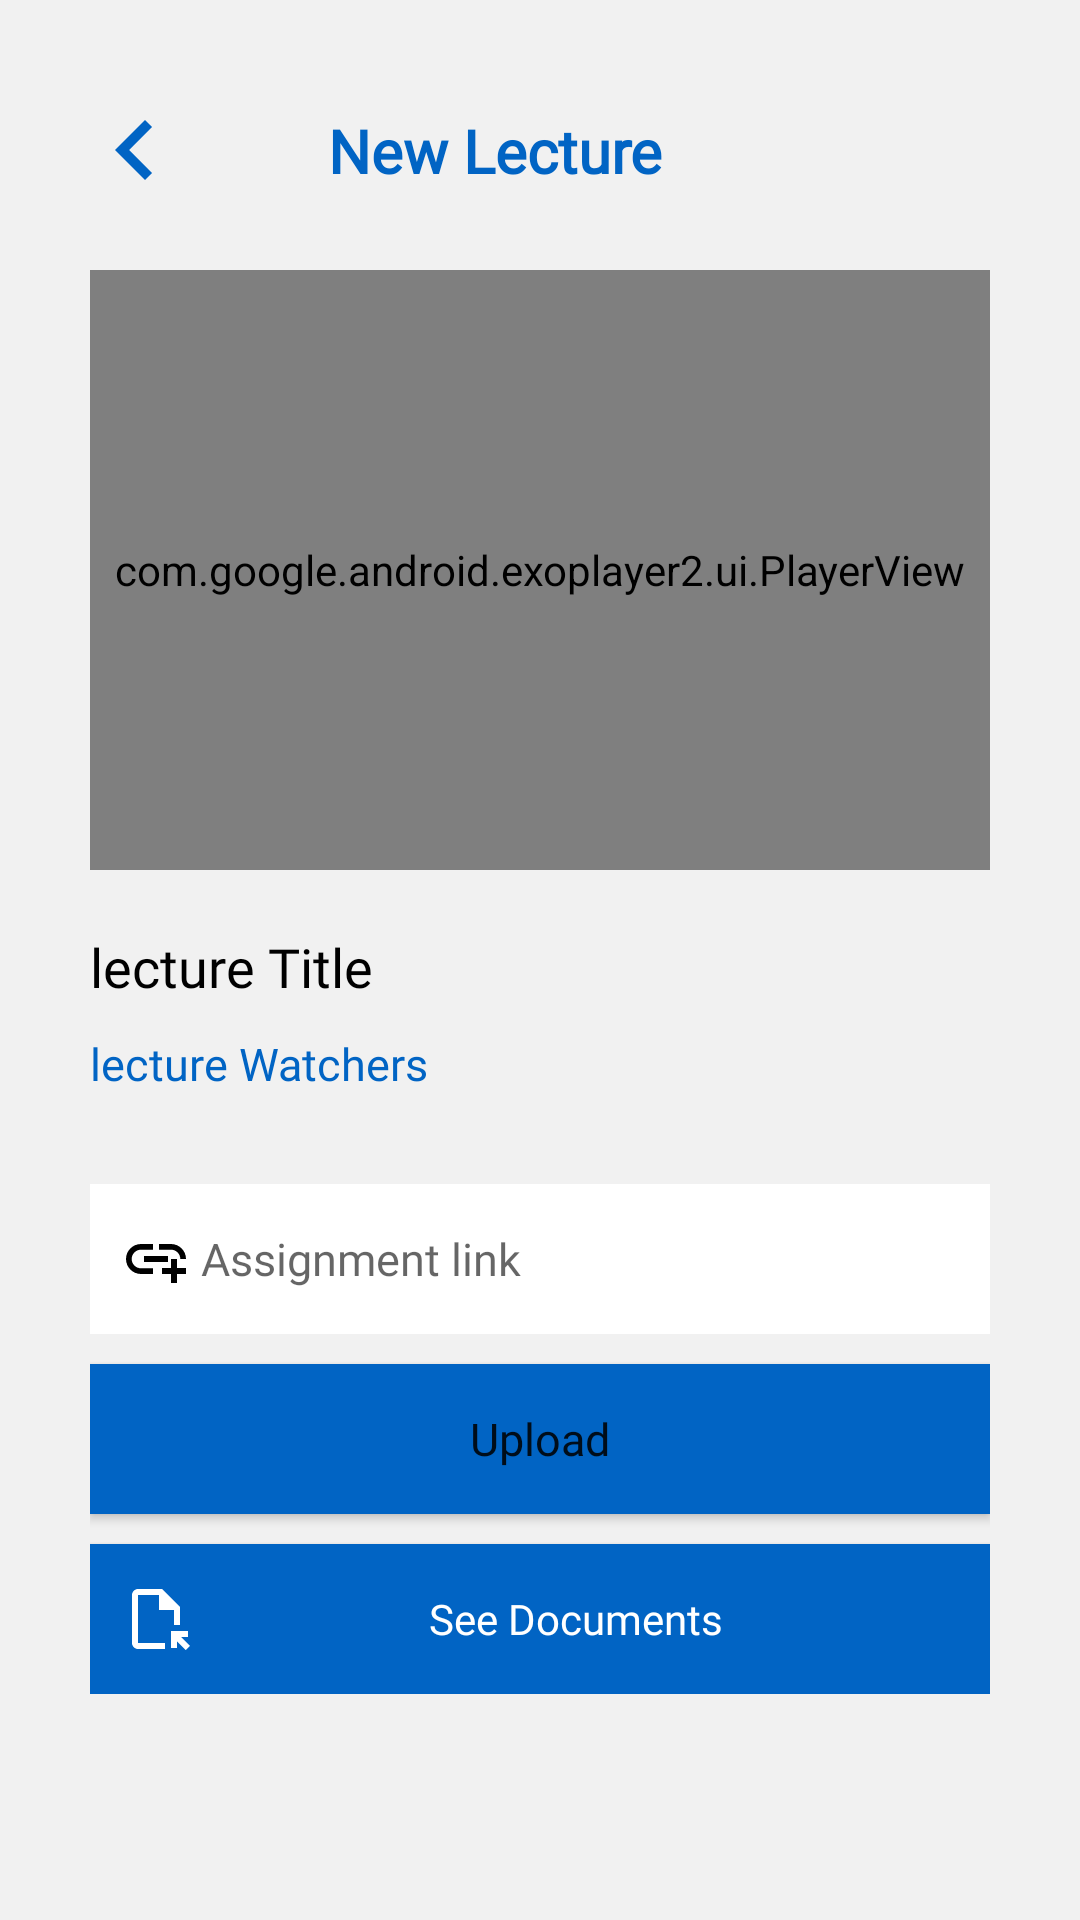

Screen size 1080px×1920px. Icon name, then its box in pixels as (x1, y1, x2, y2):
left: (115, 120, 152, 180)
